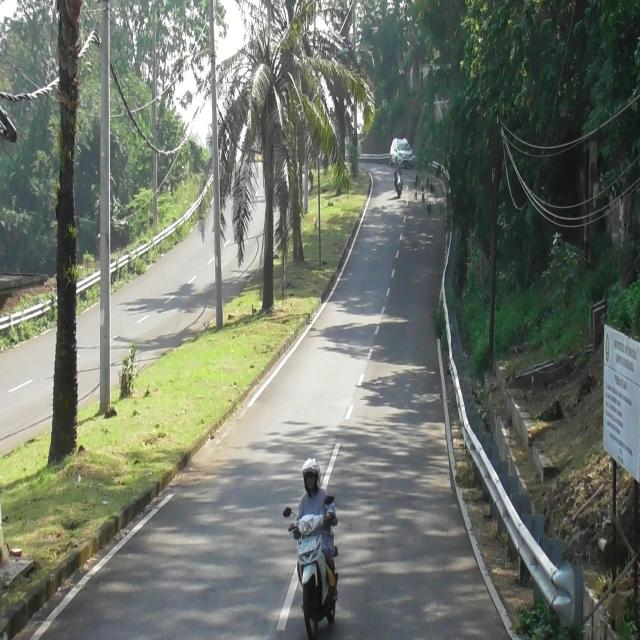motorcycle: (280, 497, 345, 637), (395, 175, 402, 197)
person: (289, 454, 336, 592), (394, 163, 402, 180)
rider_region: (283, 455, 342, 637), (393, 162, 404, 202)
